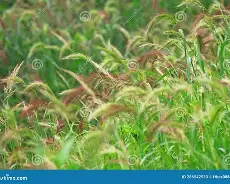weed: (0, 0, 229, 169)
